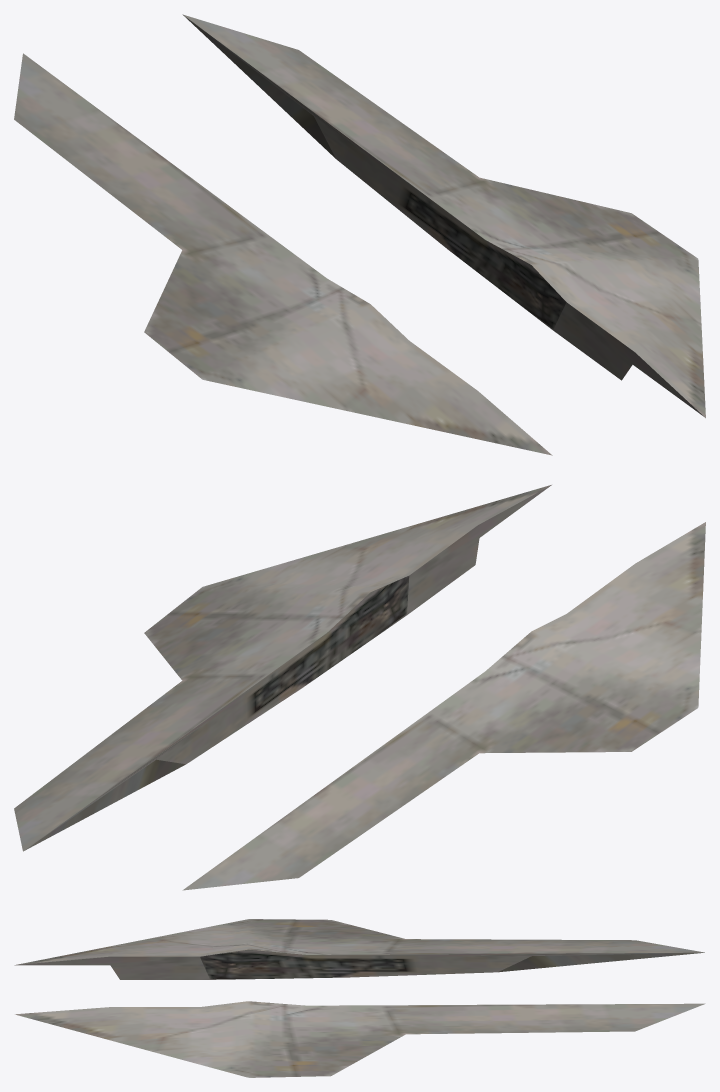
The model's file is hutt_fighter_light_struct_s02_l2.fbx.
3 renders of one model, top to bottom at view 1: azimuth 30°, elevation 25°; view 2: azimuth 150°, elevation 25°; view 3: azimuth 270°, elevation 25°, orthographic. The views are drawn at different scales.
Parts seen in each view (by area): view 1: mesh_node; view 2: mesh_node; view 3: mesh_node.
Part boxes in pixels (left/top/right/bottom): mesh_node: left=14, top=14, right=705, bottom=455; mesh_node: left=14, top=485, right=705, bottom=890; mesh_node: left=14, top=919, right=705, bottom=1077.
Size of the model in its own units: 12.08 by 1.25 by 22.22.
